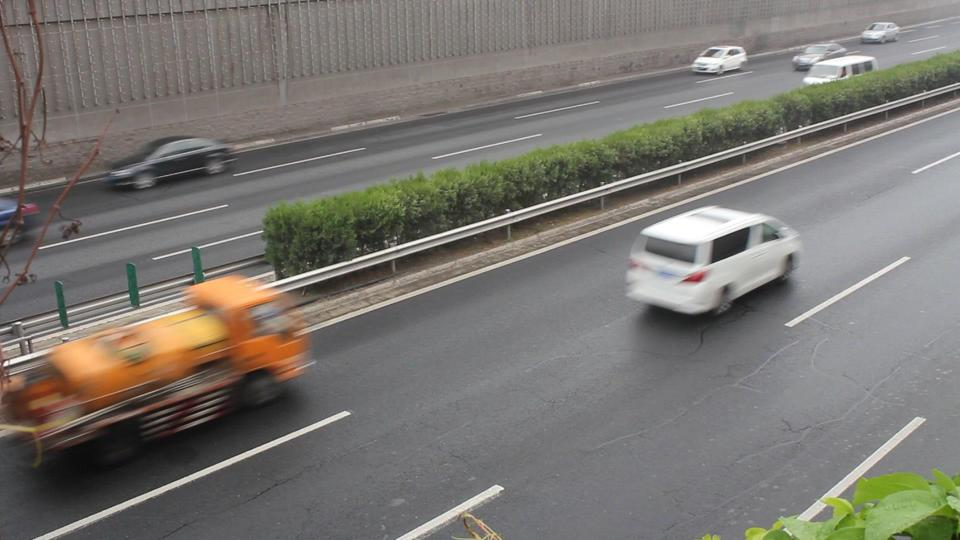car: (625, 205, 804, 318), (102, 137, 241, 191), (802, 54, 879, 86), (0, 199, 43, 246), (691, 45, 749, 75), (789, 42, 848, 71), (861, 22, 901, 44)
truck: (2, 277, 318, 471)
